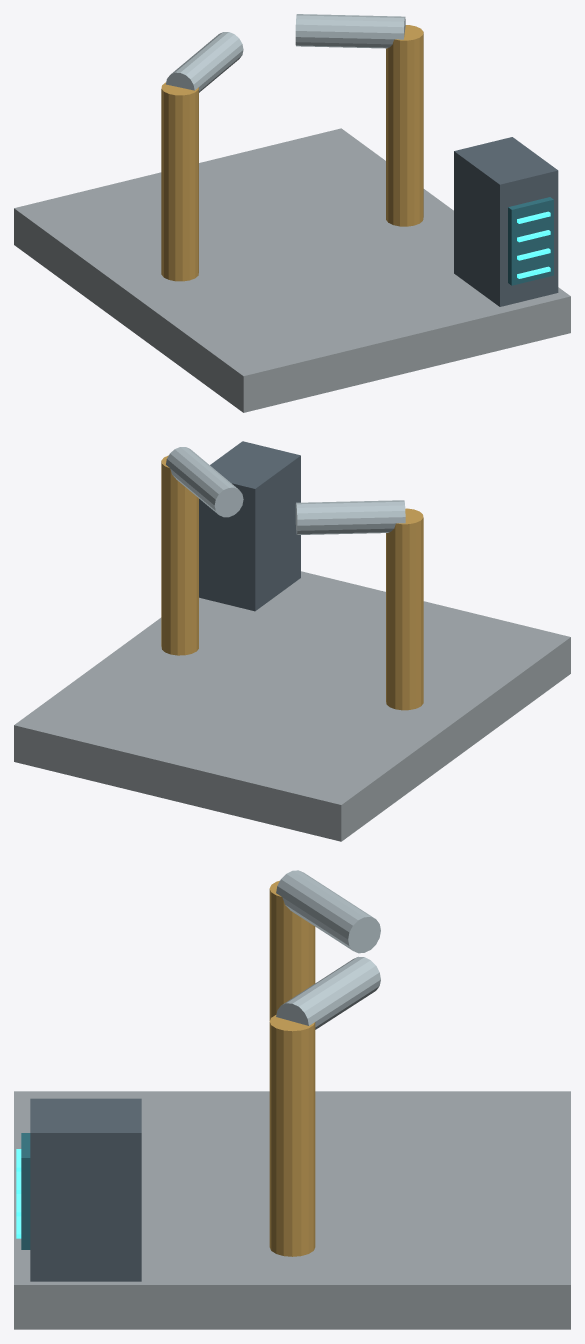
File: repair-bay.glb
3 renders of one model, top to bottom at view 1: azimuth 30°, elevation 25°; view 2: azimuth 150°, elevation 25°; view 3: azimuth 270°, elevation 25°, orthographic. The views are drawn at different scales.
Visible parts, largest first — view 1: maintenance pad, service locker, repair arm, repair arm.001, repair tool.001, glowing status panel, repair tool; view 2: maintenance pad, service locker, repair arm, repair arm.001, repair tool, repair tool.001; view 3: maintenance pad, service locker, repair arm.001, repair arm, repair tool, repair tool.001, glowing status panel.
Boxes of the visible parts, x1,y1,x2,y2 form: maintenance pad: (14, 128, 570, 412); service locker: (454, 137, 558, 306); repair arm: (161, 82, 198, 281); repair arm.001: (386, 25, 423, 226); repair tool.001: (295, 14, 405, 48); glowing status panel: (508, 197, 553, 285); repair tool: (166, 32, 243, 92); maintenance pad: (14, 571, 570, 841); service locker: (199, 441, 300, 611); repair arm: (386, 508, 423, 710); repair arm.001: (161, 455, 198, 655); repair tool: (295, 500, 405, 534); repair tool.001: (166, 447, 243, 517); maintenance pad: (14, 1091, 570, 1329); service locker: (30, 1098, 141, 1281); repair arm.001: (269, 1015, 315, 1256); repair arm: (269, 880, 315, 1020); repair tool: (276, 870, 380, 953); repair tool.001: (276, 956, 380, 1029); glowing status panel: (21, 1133, 30, 1249).
Size of the model in its own units: 1.4 by 0.995 by 1.7.
